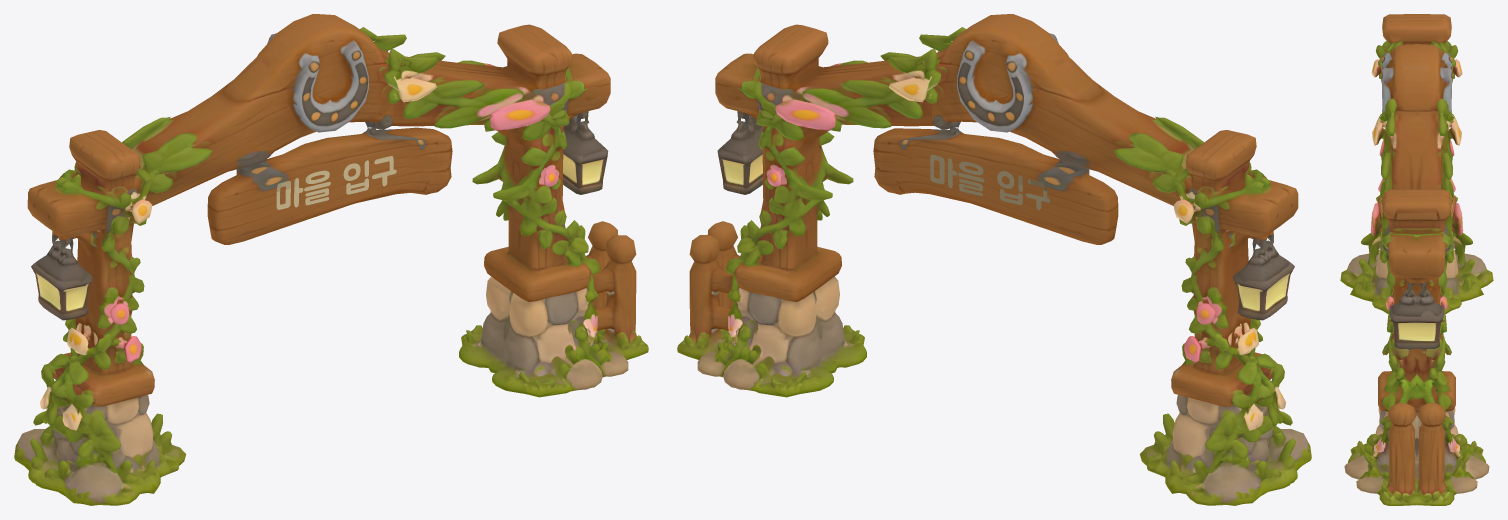
3 views of the same model, side by side, from view 1: azimuth 30°, elevation 25°; view 2: azimuth 150°, elevation 25°; view 3: azimuth 270°, elevation 25° (orthographic). The views are drawn at different scales.
Visible parts, largest first — view 1: Village Gate, Village entrance lettering; view 2: Village Gate, Village entrance lettering; view 3: Village Gate.
Boxes of the visible parts, x1=… form: Village Gate: x1=14, y1=14, x2=648, y2=505; Village entrance lettering: x1=276, y1=156, x2=396, y2=209; Village Gate: x1=677, y1=14, x2=1311, y2=505; Village entrance lettering: x1=930, y1=154, x2=1050, y2=209; Village Gate: x1=1340, y1=14, x2=1493, y2=505.
Size of the model in its own units: 6.76 by 4.24 by 1.78.
2 materials, 2 textured.
